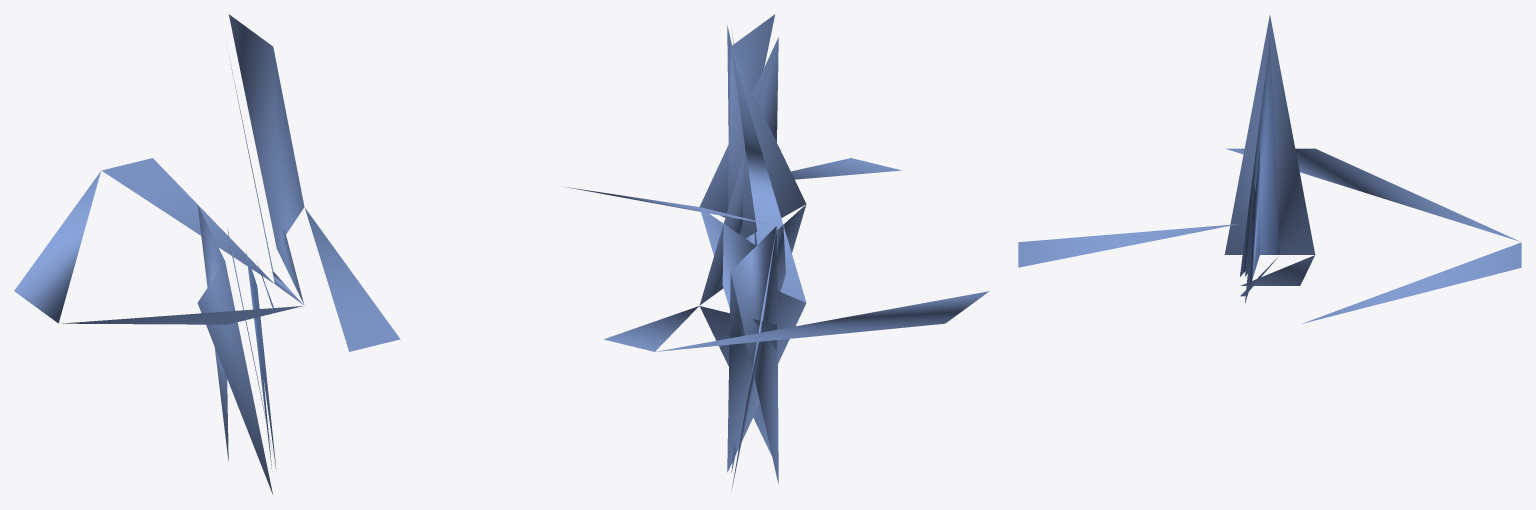
The model's file is equip_body_blue_wizard_robe.glb.
The picture shows the model from 3 angles, left to right: view 1: azimuth 30°, elevation 25°; view 2: azimuth 150°, elevation 25°; view 3: azimuth 270°, elevation 25°; orthographic projection.
Parts seen in each view (by area): view 1: equip_body_blue_wizard_robe; view 2: equip_body_blue_wizard_robe; view 3: equip_body_blue_wizard_robe.
Boxes of the visible parts, <box> form: equip_body_blue_wizard_robe: <box>14,14,400,494</box>; equip_body_blue_wizard_robe: <box>565,14,989,491</box>; equip_body_blue_wizard_robe: <box>1018,15,1521,323</box>.
Bounding box in the file's own units: 2 × 2 × 2.
